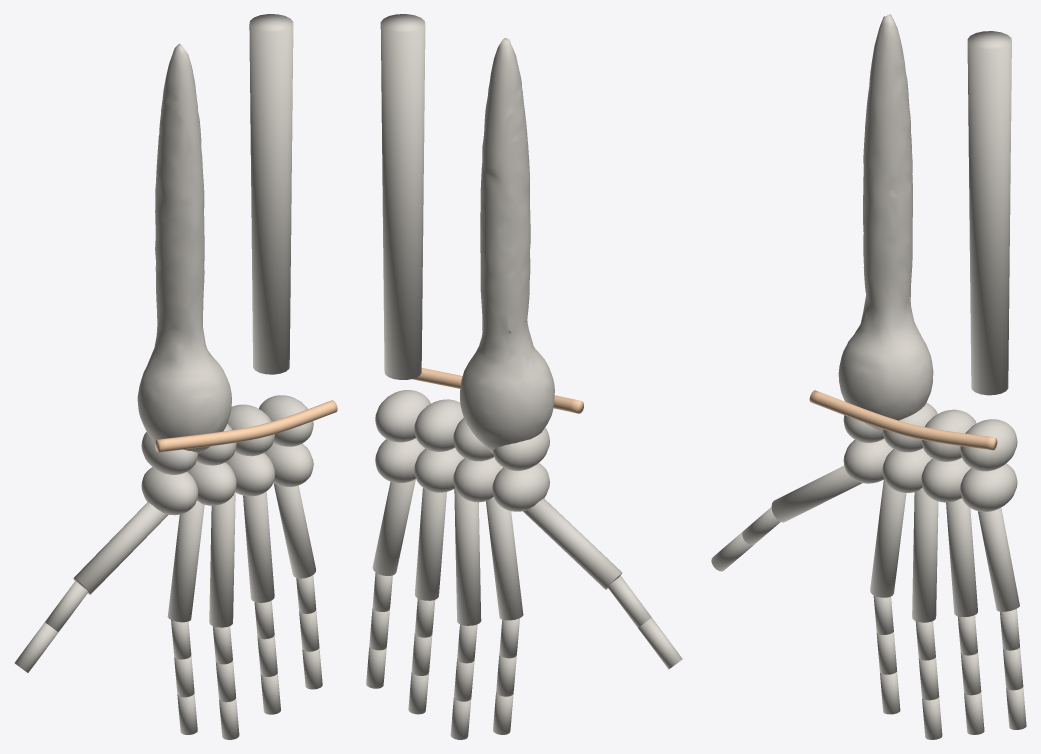
The model's file is wrist-load.glb.
3 renders of one model, left to right at view 1: azimuth 30°, elevation 25°; view 2: azimuth 150°, elevation 25°; view 3: azimuth 330°, elevation 25°, orthographic.
Parts seen in each view (by area): view 1: static #eee5d3, static #f2a066; view 2: static #eee5d3, static #f2a066; view 3: static #eee5d3, static #f2a066.
Part boxes in pixels (x1,y1,x2,y2): static #eee5d3: [14, 14, 322, 739]; static #f2a066: [155, 400, 337, 452]; static #eee5d3: [366, 14, 682, 739]; static #f2a066: [411, 368, 583, 413]; static #eee5d3: [711, 14, 1026, 739]; static #f2a066: [809, 390, 997, 450].
Bounding box in the file's own units: 0.1921 × 0.4185 × 0.0576.
